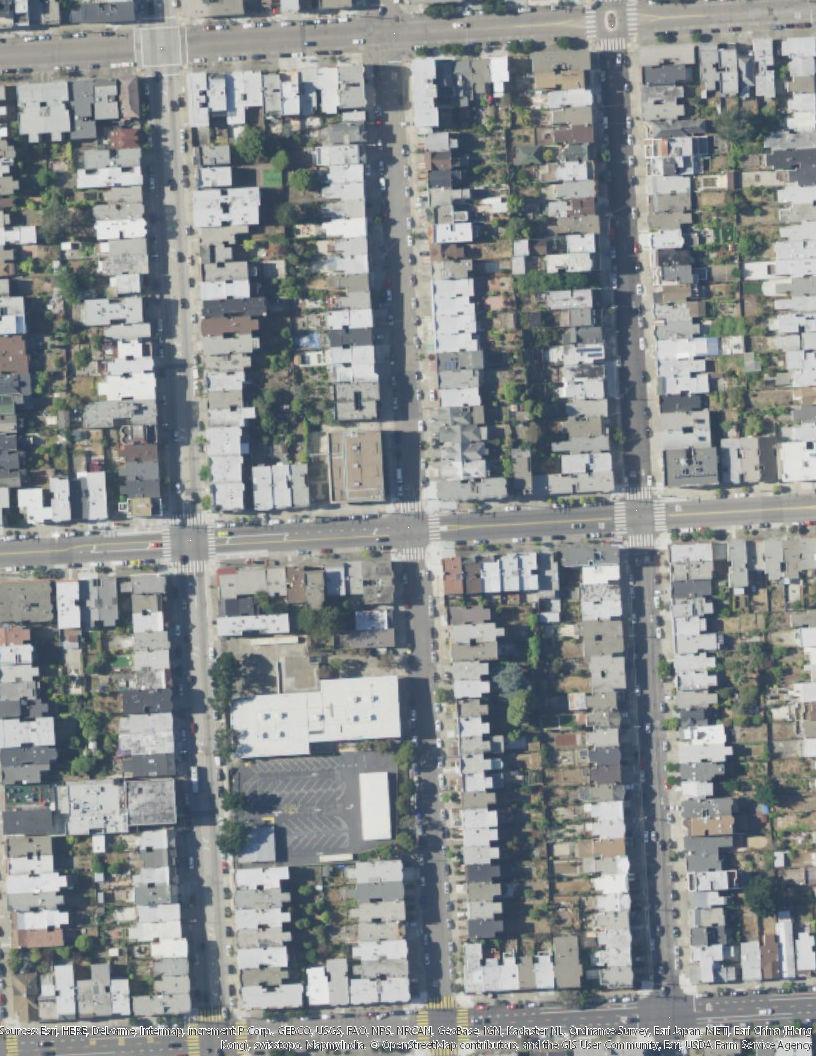zebracross: (625, 1, 639, 39), (171, 513, 206, 528), (651, 502, 668, 532), (614, 502, 628, 537), (173, 560, 208, 574), (626, 485, 652, 502), (426, 994, 455, 1009), (426, 515, 442, 542), (629, 534, 654, 550), (584, 10, 597, 40), (397, 499, 421, 515), (161, 528, 173, 560), (598, 39, 627, 52), (402, 547, 427, 562), (197, 1008, 225, 1021), (206, 527, 217, 558), (185, 1035, 201, 1056), (416, 1009, 429, 1023), (457, 1009, 469, 1024)
